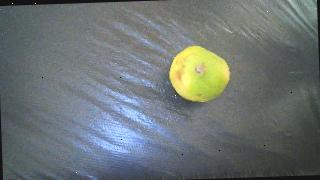DESECHO: (169, 44, 231, 102)
